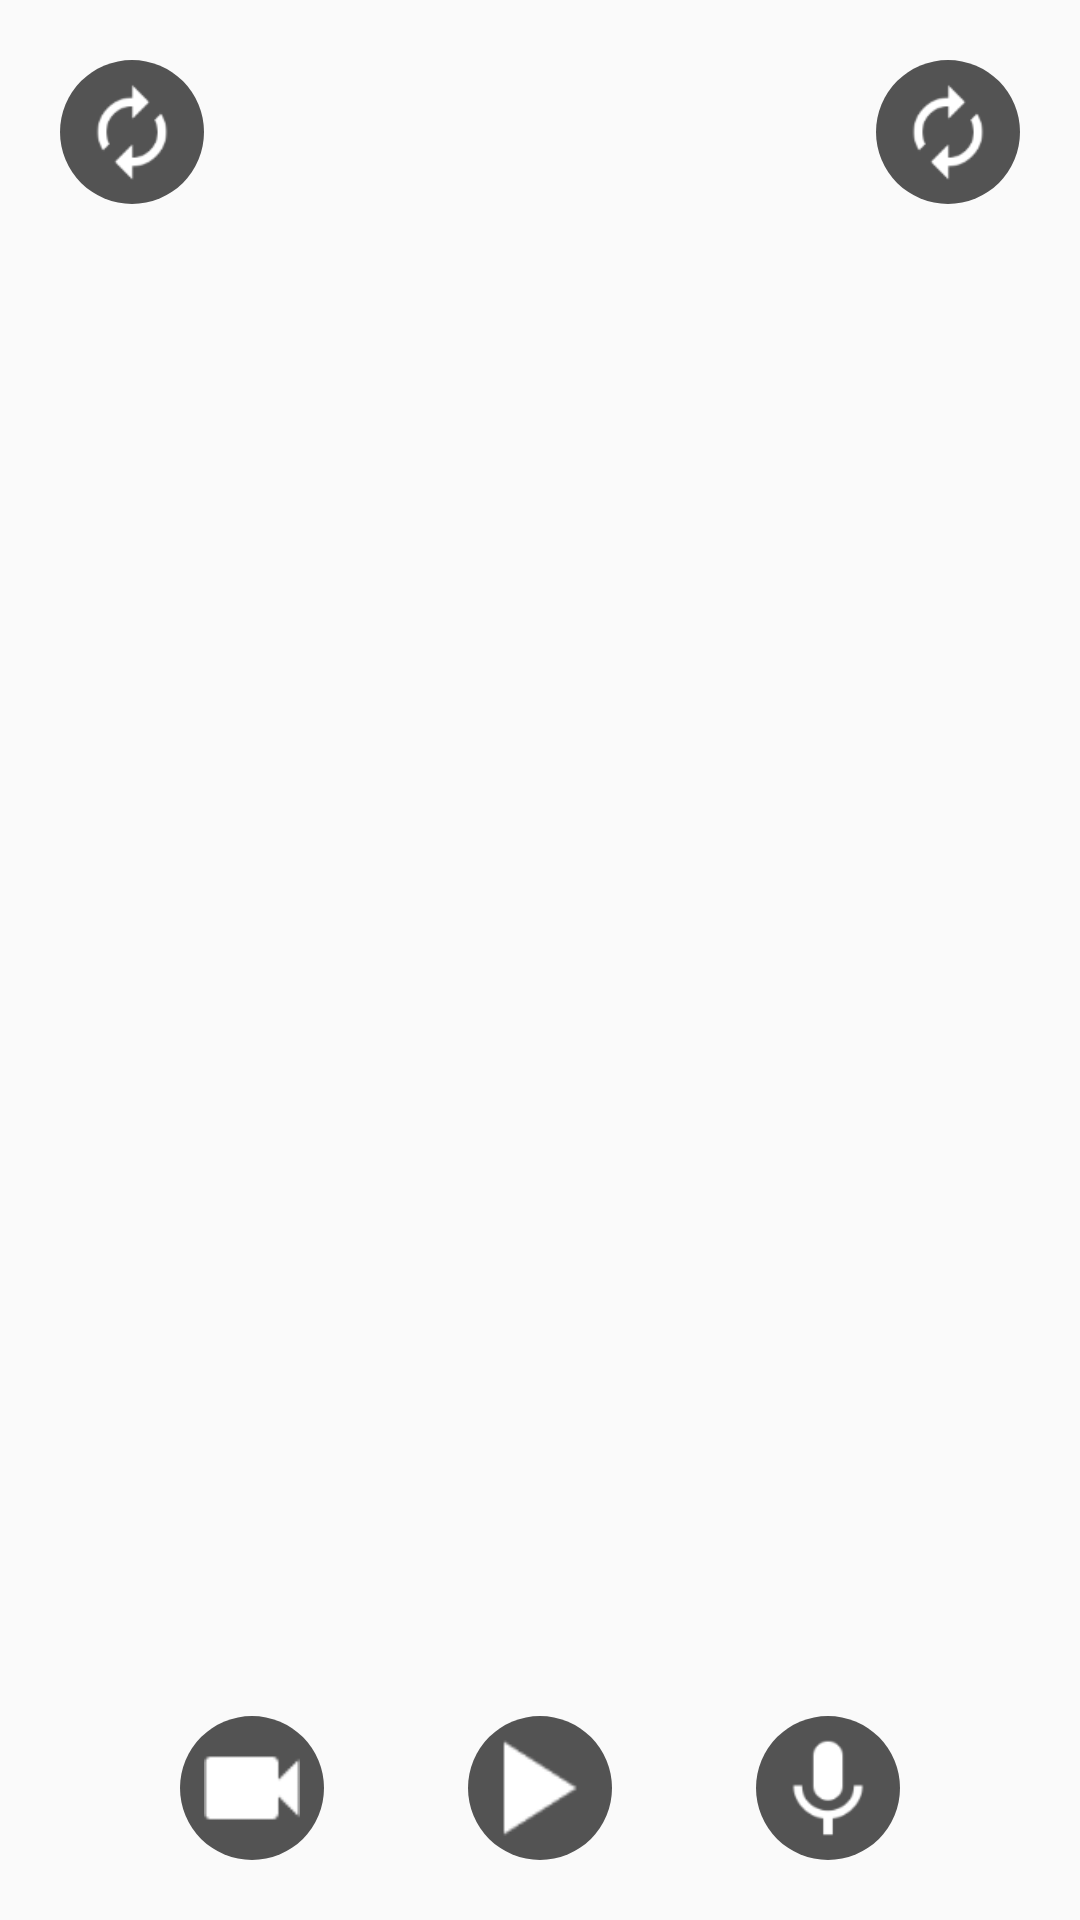

Where icons sit on this 1080w x 1920h app screen, as (x1,y1,x2,y2):
autorenew: (60,60,204,204), (876,60,1020,204)
mic: (756,1716,900,1860)
play arrow: (468,1716,612,1860)
videocam: (180,1716,324,1860)
